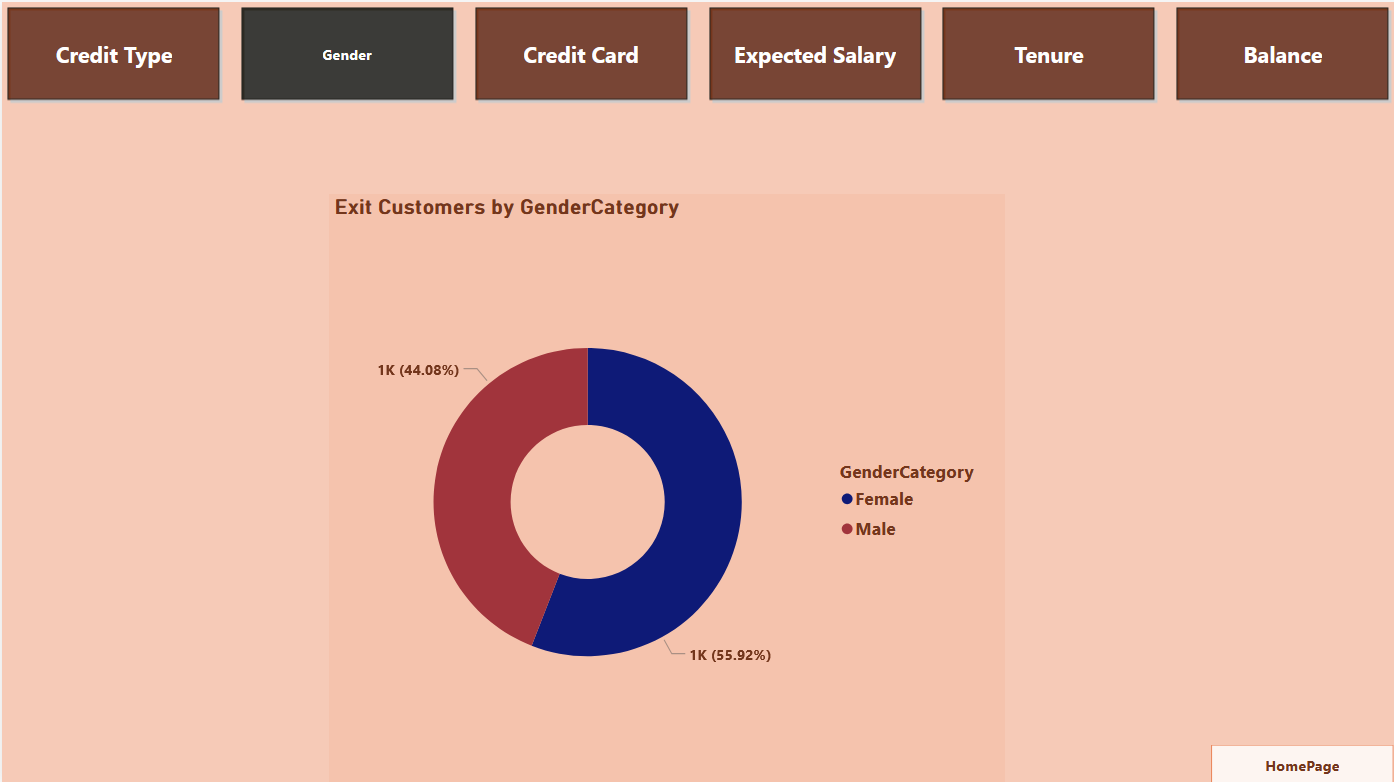

This screenshot's page, from the dashboard's own definition file:
{"tool":"powerbi","page":{"name":"Exit Customers 2","canvas":[1280,720],"ordinal":4},"visuals":[{"type":"donutChart","fields":{"Category":["Gender.GenderCategory"],"Y":["Calculations.Exit Customers"]},"box":[300,176.7,621.7,543.3],"z":5000},{"type":"bookmarkNavigator","box":[0,0,1280,95],"z":6000},{"type":"pageNavigator","box":[1111.4,682.9,168.1,36.3],"z":7000}]}

Visuals, with their boxes in screenshot pixels (x1, y1, x2, y2), scaled from the page's 1280x720 canvas onto the 1394x782 screenshot:
donutChart - Gender.GenderCategory x Calculations.Exit Customers: rect(327, 192, 1004, 781)
bookmarkNavigator: rect(0, 0, 1393, 103)
pageNavigator: rect(1210, 742, 1393, 781)
